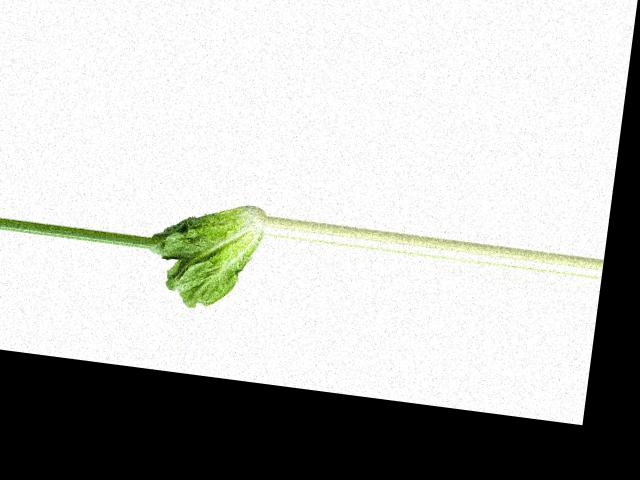lettuce: (145, 193, 266, 316)
